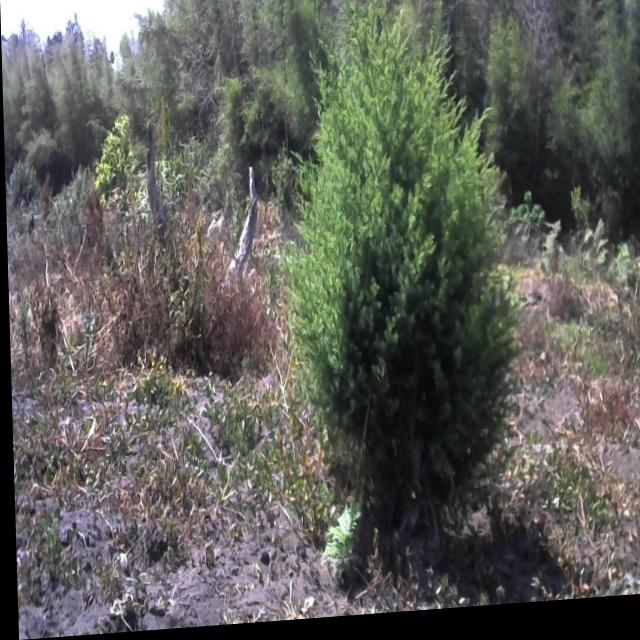cedrus: (269, 8, 524, 575)
